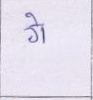e_matra: (25, 12, 42, 24)
